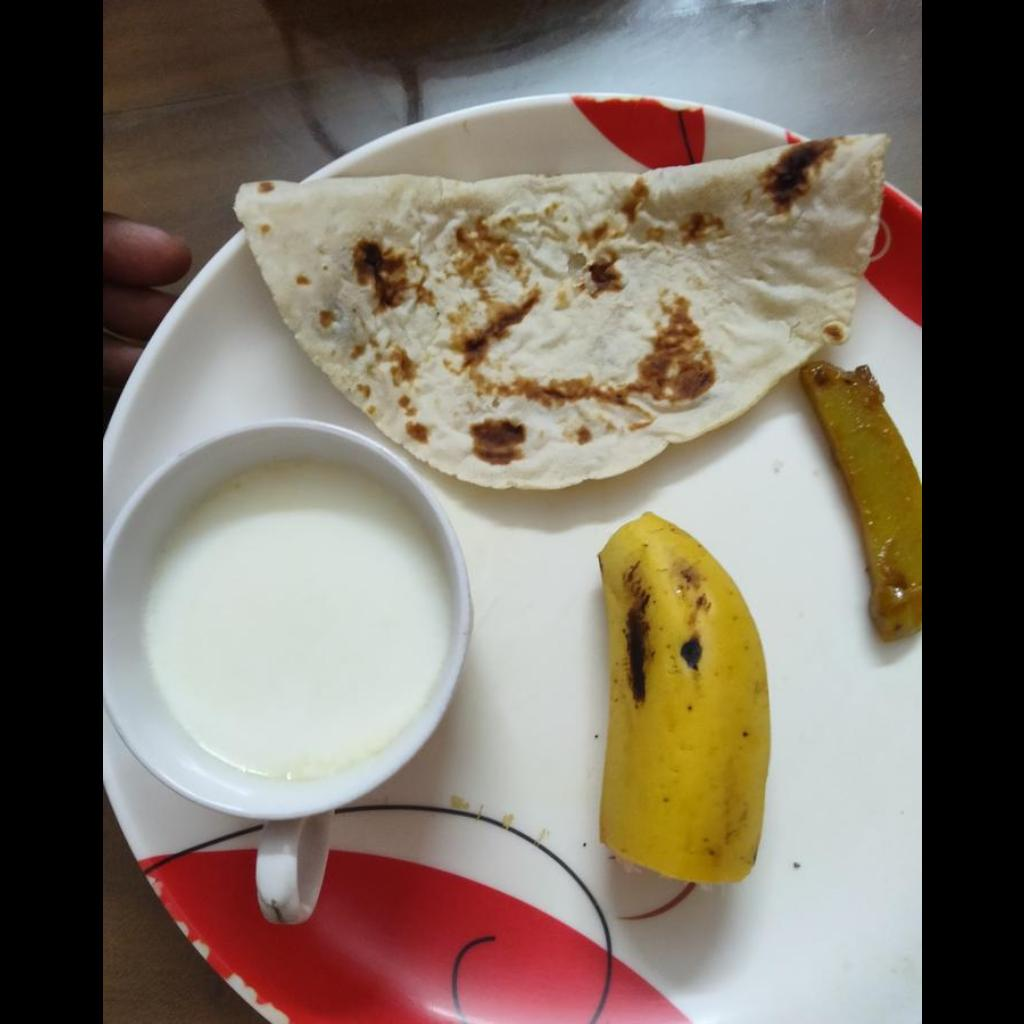banana: (599, 512, 771, 884)
milk: (138, 466, 443, 780)
ruti: (232, 134, 884, 486)
